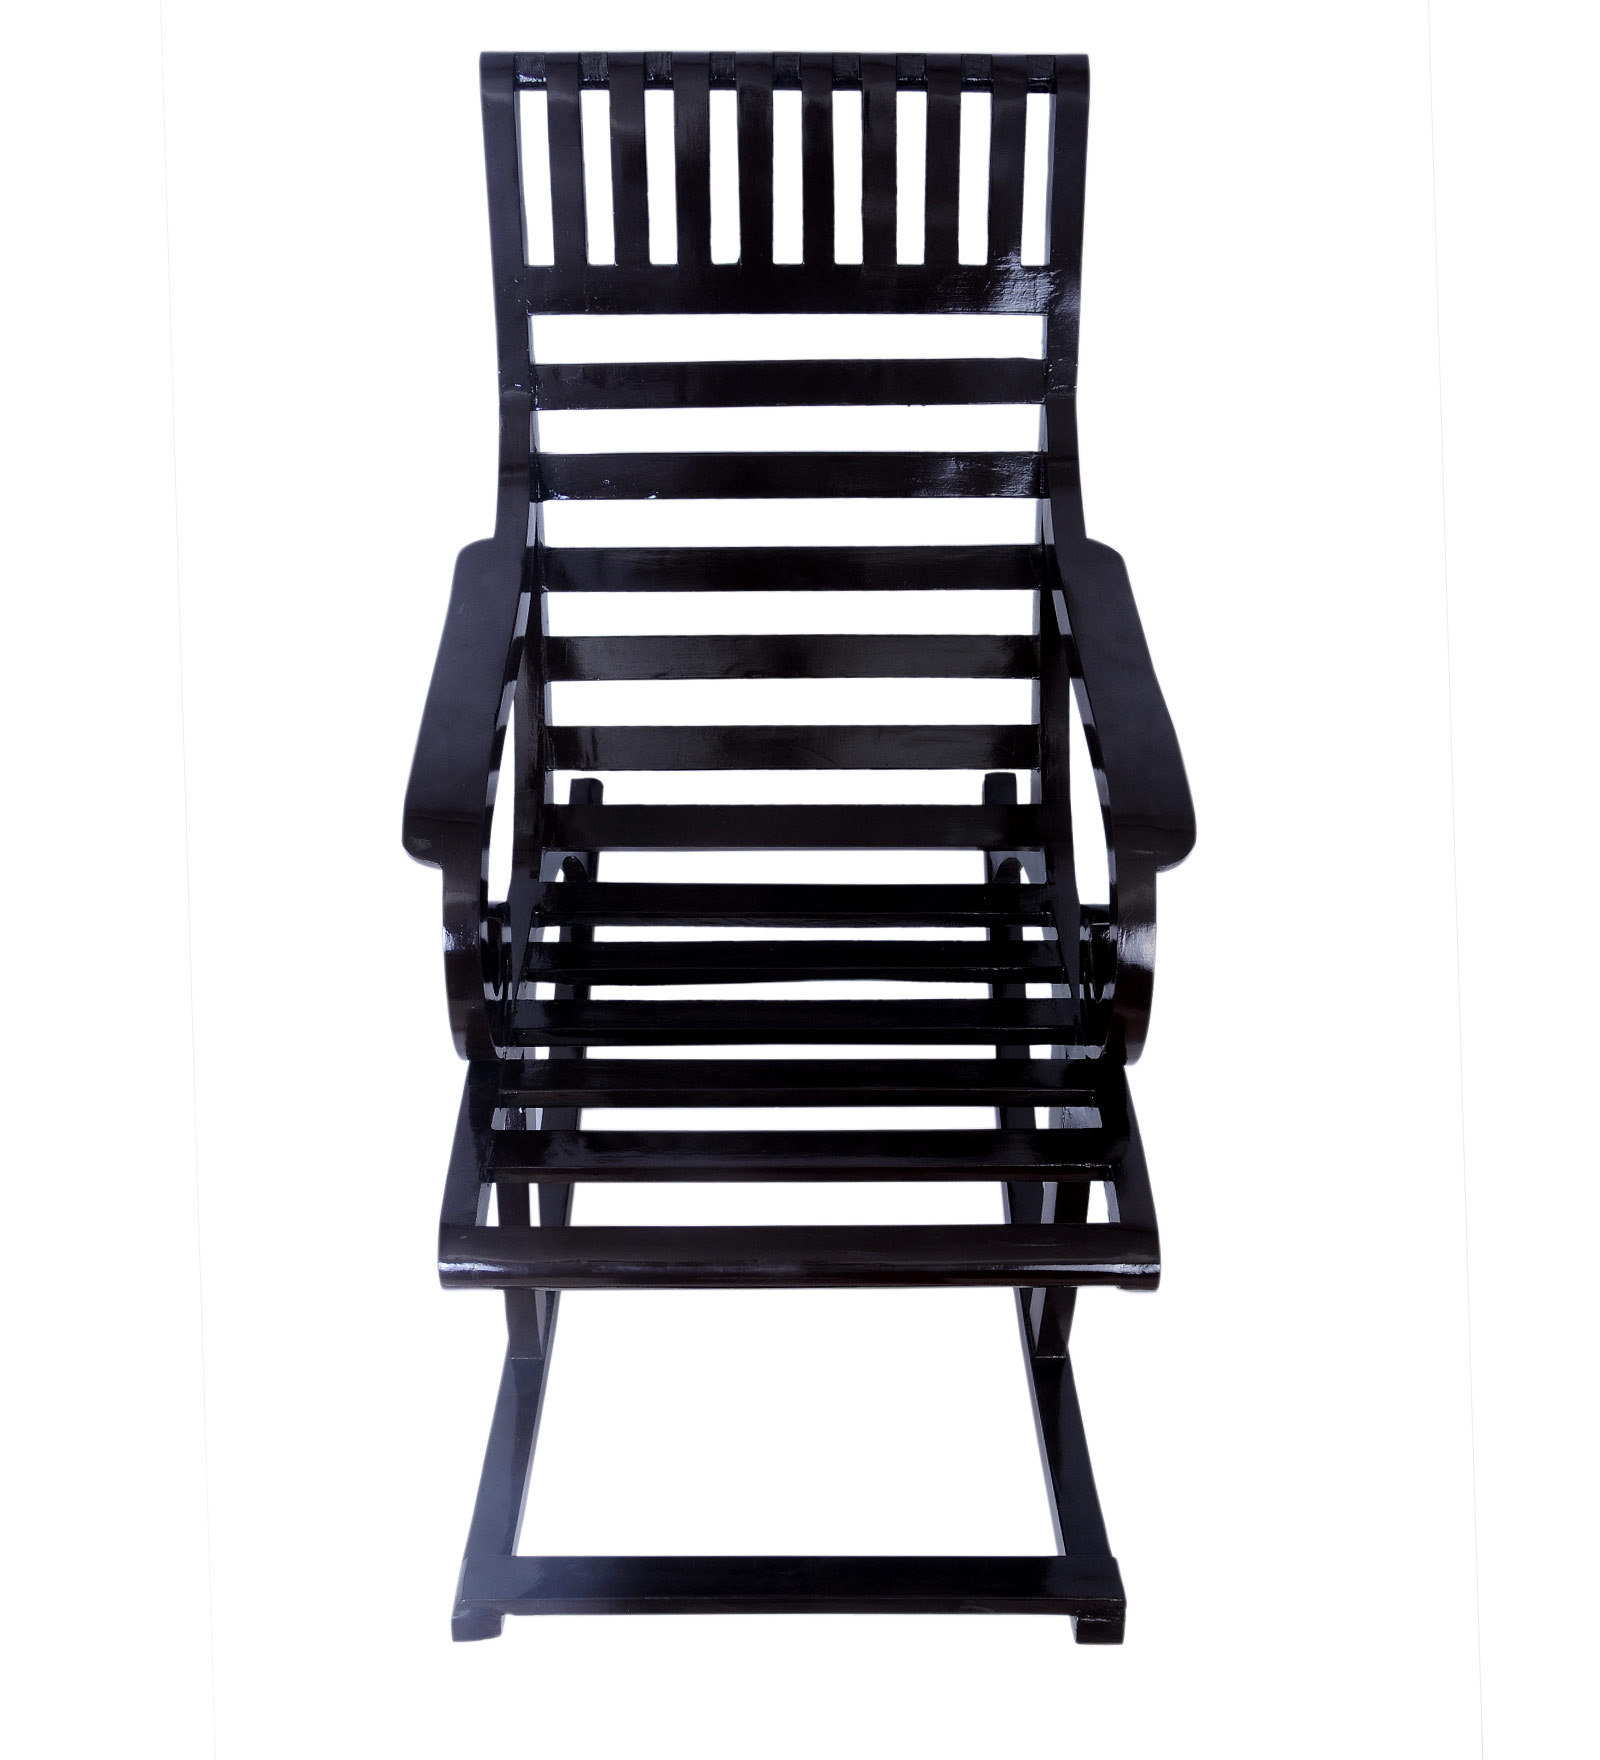Teak Wood Rocking Chair in Walnut Finish by Furniease: (366, 25, 1270, 1705)
